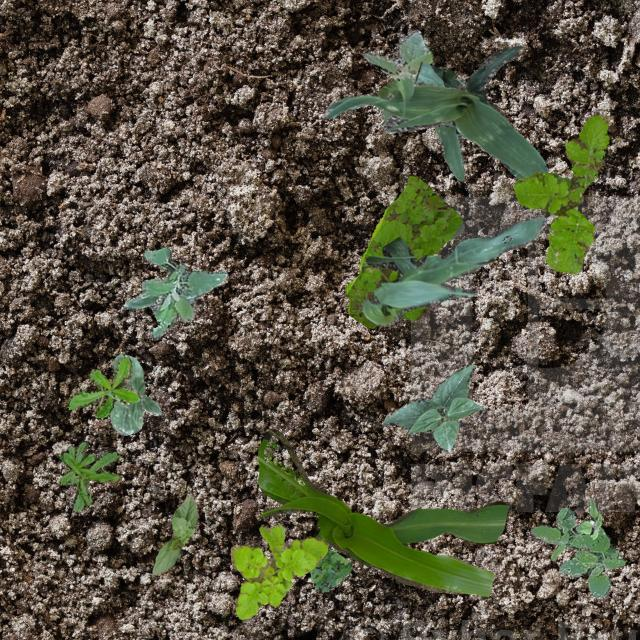crop: (256, 428, 506, 598), (320, 44, 548, 178), (358, 213, 546, 324), (380, 364, 482, 451), (414, 60, 464, 180), (108, 354, 160, 434), (152, 494, 198, 574)
weed: (346, 175, 462, 328), (512, 110, 610, 274), (362, 29, 466, 132), (122, 246, 226, 338), (230, 524, 326, 620), (530, 506, 624, 596), (66, 357, 140, 418), (58, 440, 118, 510), (310, 530, 350, 592), (574, 498, 602, 538)
